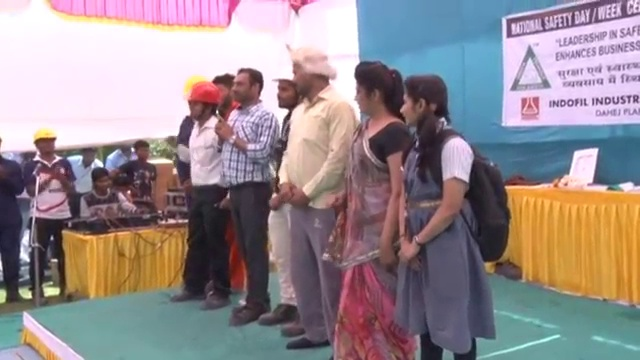helmet: (183, 80, 220, 108), (272, 61, 298, 84), (32, 127, 58, 145)
helmet_off: (347, 62, 404, 125), (397, 73, 453, 128), (291, 46, 334, 96), (211, 71, 241, 120), (231, 68, 263, 110), (90, 168, 112, 195), (132, 141, 149, 162), (79, 145, 97, 164)
helmet_on: (184, 80, 221, 126), (270, 61, 298, 111), (32, 127, 58, 161)
person: (397, 67, 513, 360), (277, 44, 354, 359), (339, 58, 415, 360), (215, 67, 283, 326), (170, 75, 236, 314), (258, 59, 309, 339), (26, 125, 77, 309), (0, 135, 26, 306), (79, 167, 148, 218), (109, 140, 157, 203), (66, 144, 103, 195), (105, 140, 138, 173)
